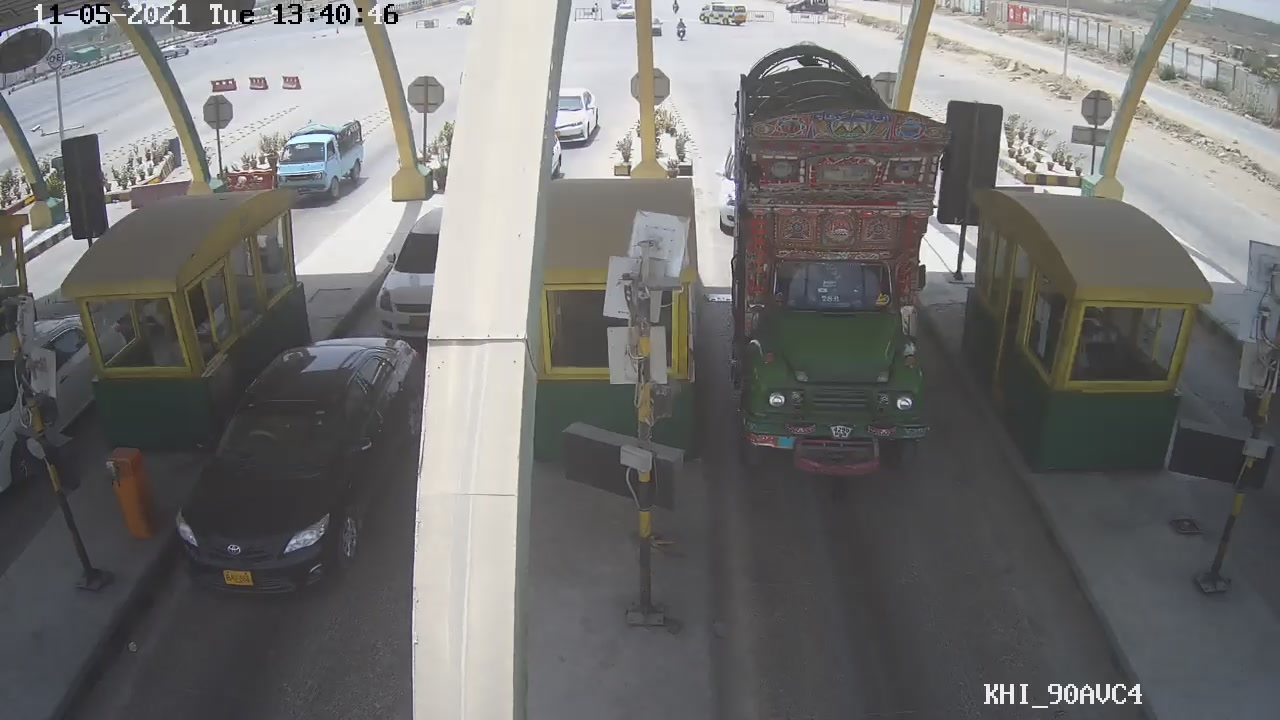F5: (708, 71, 989, 502)
